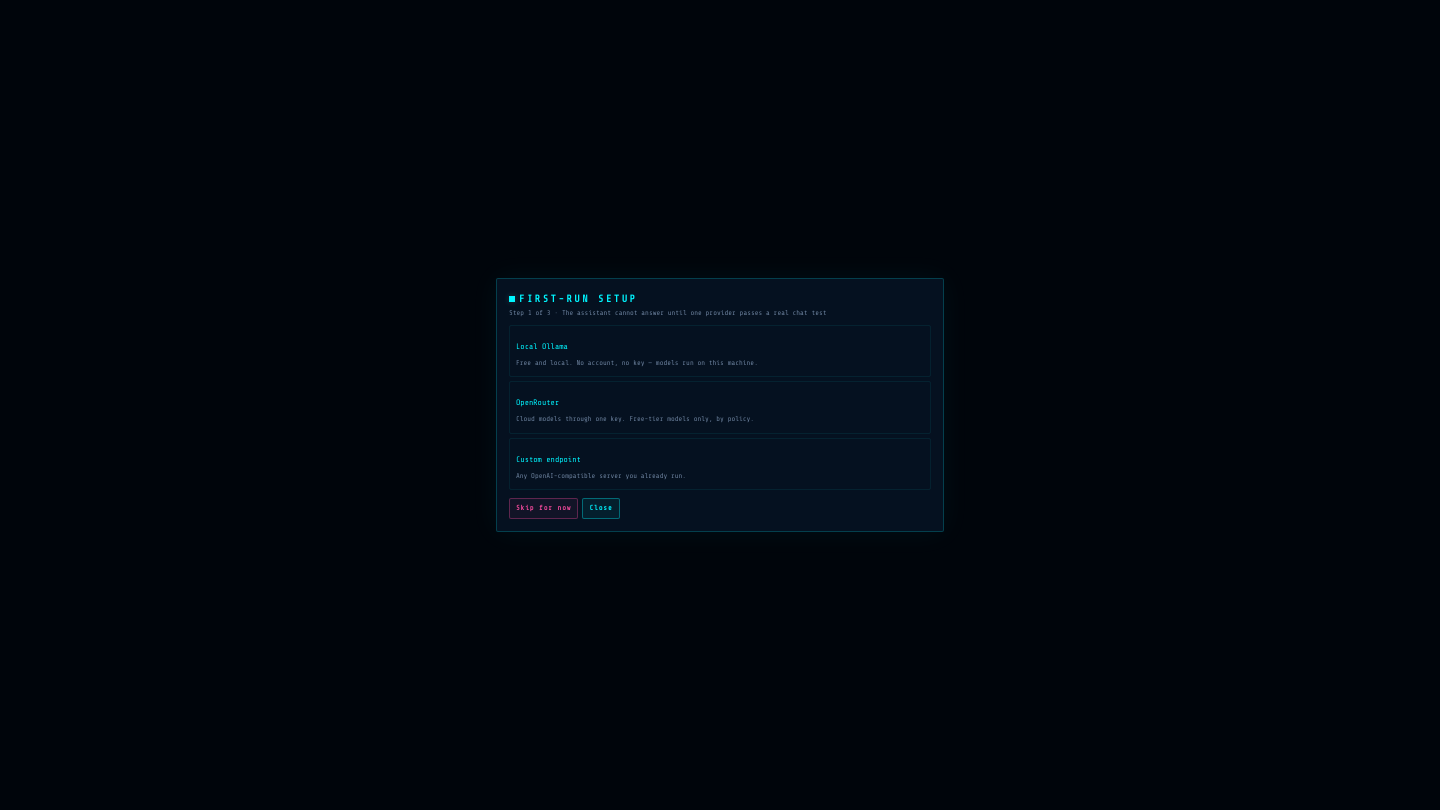
Test: SetupWizard › stays on the verify step when the chat test fails, verbatim
Click the button "Local Ollama": (542, 346) [509,325,931,377]
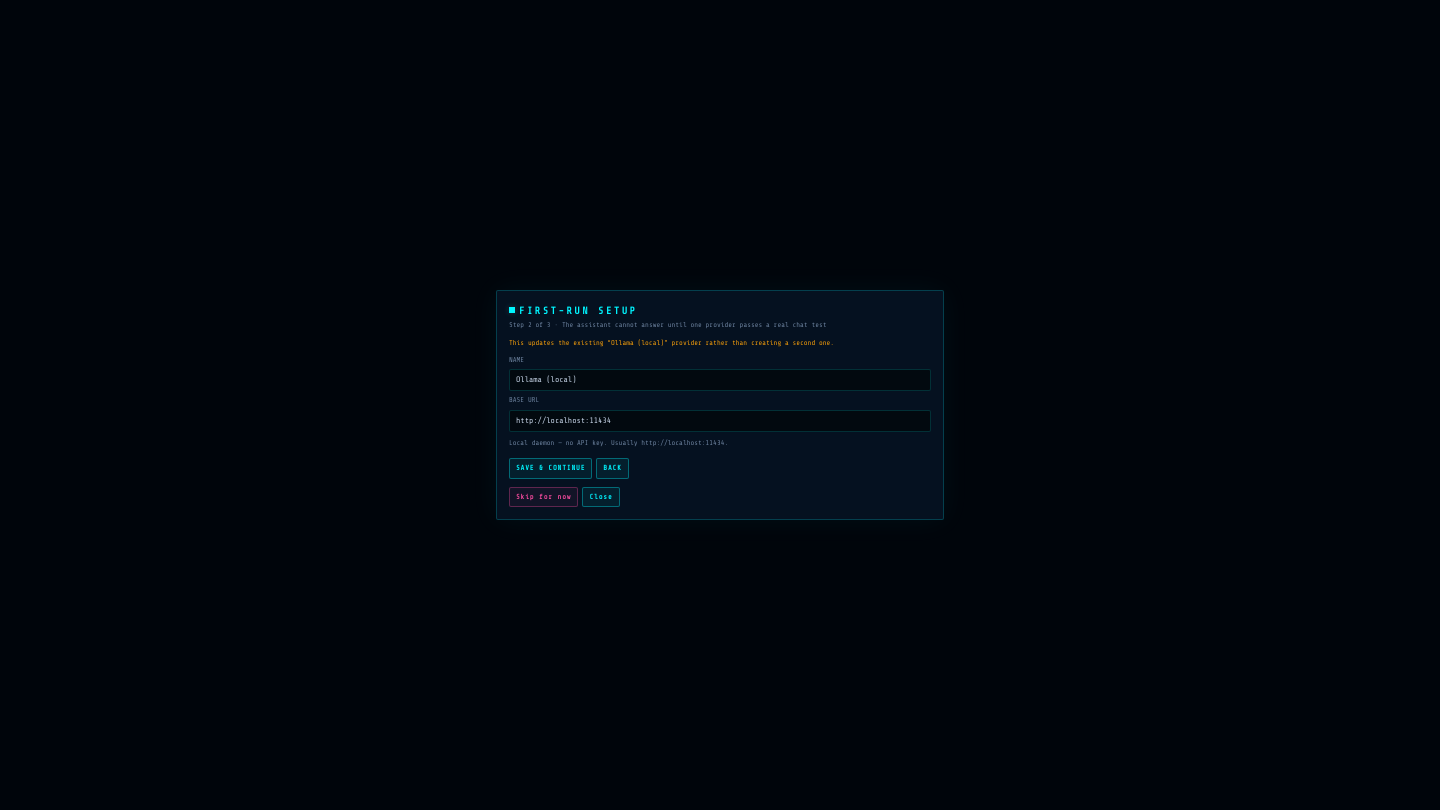
Click the button "SAVE & CONTINUE": (551, 469) [509,458,592,479]
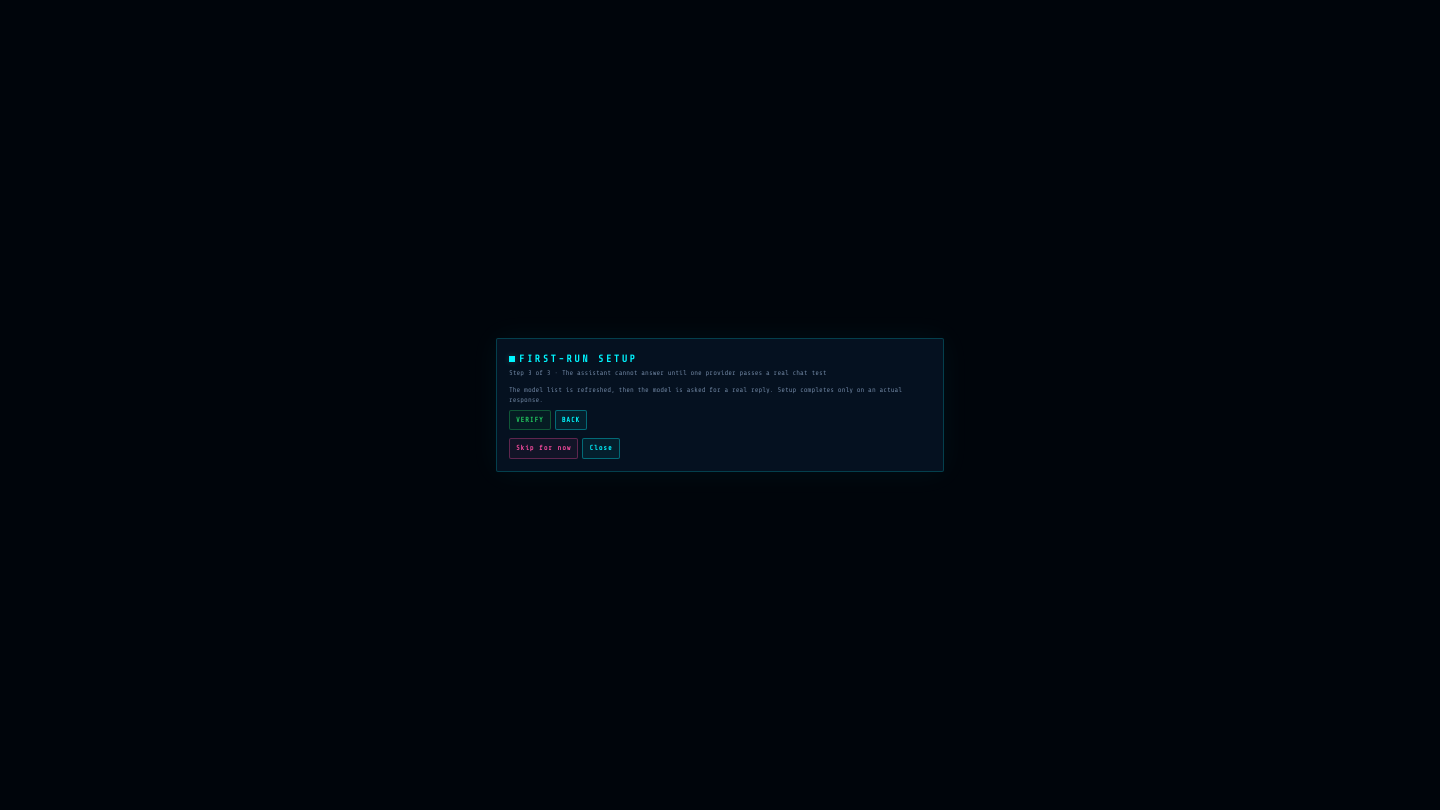
Click the button "VERIFY": (530, 420) [509,410,551,430]
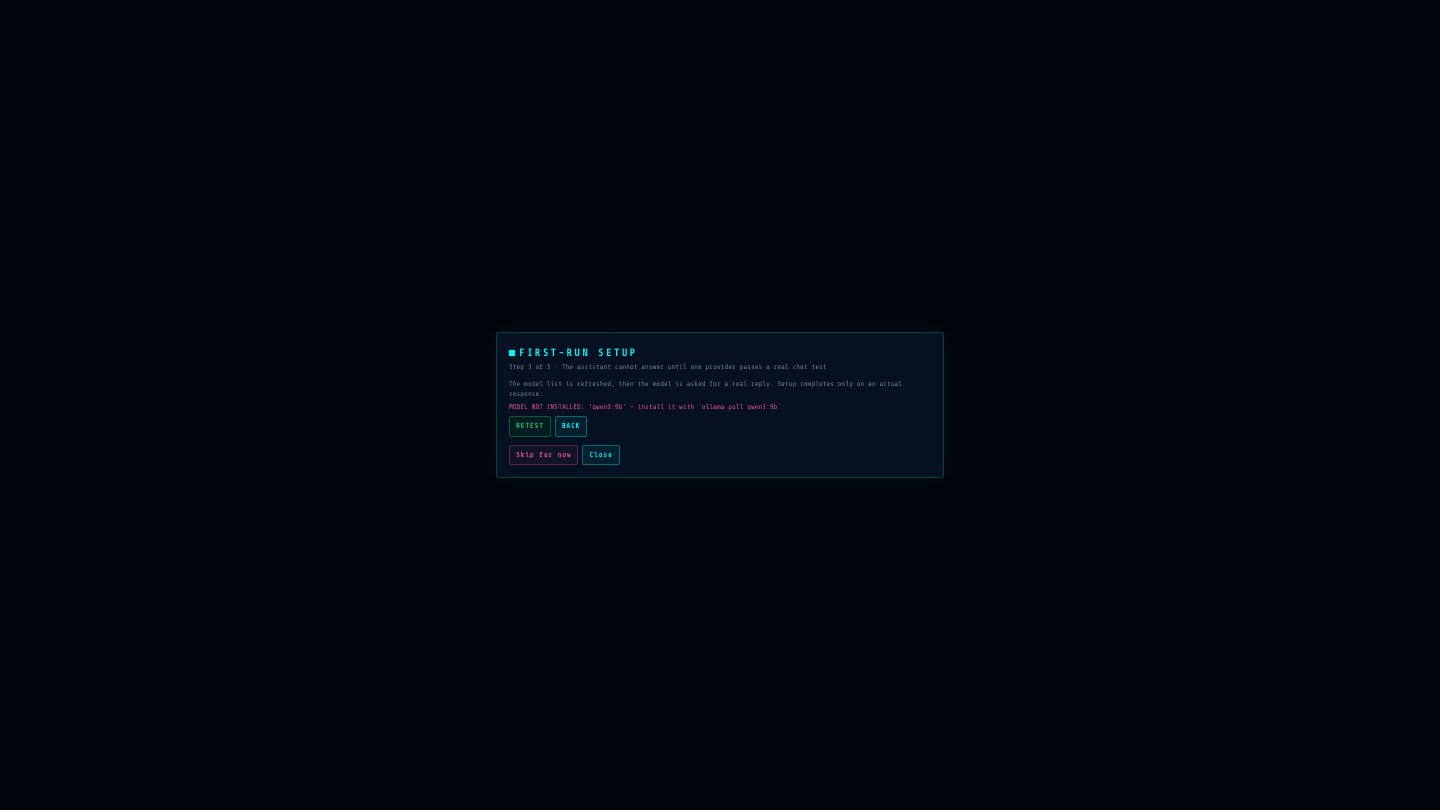
Expected: the text "MODEL NOT INSTALLED: 'qwen3:9b' — install it with `ollama pull qwen3:9b`" is shown, [509,402,781,410]
Expected: the button "RETEST" is shown, [509,416,551,436]
